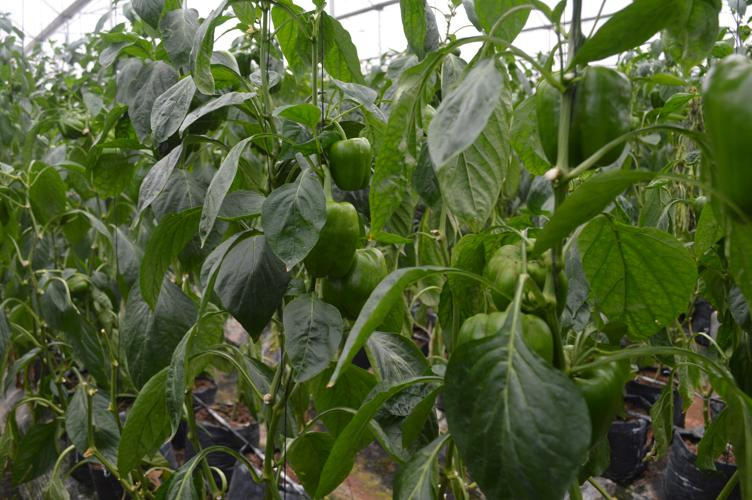BellPepper: (532, 66, 630, 163), (691, 57, 748, 216), (483, 244, 562, 313), (559, 343, 619, 426), (295, 202, 360, 277), (320, 251, 391, 319), (456, 312, 551, 361), (326, 136, 371, 191)
